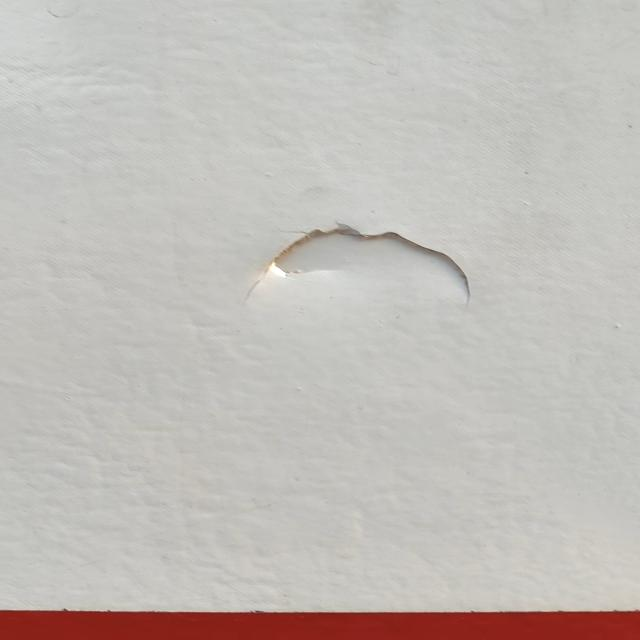Scratches: (226, 217, 487, 315)
